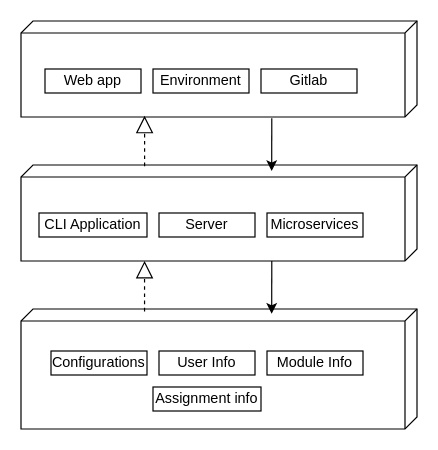
Image size: 438x450. Some labels were removed from this diagram. Each missing label, with the box of its shape:
Application Tier: (20, 164, 417, 261)
Data Tier: (20, 308, 417, 429)
Presentation Tier: (20, 20, 417, 117)
